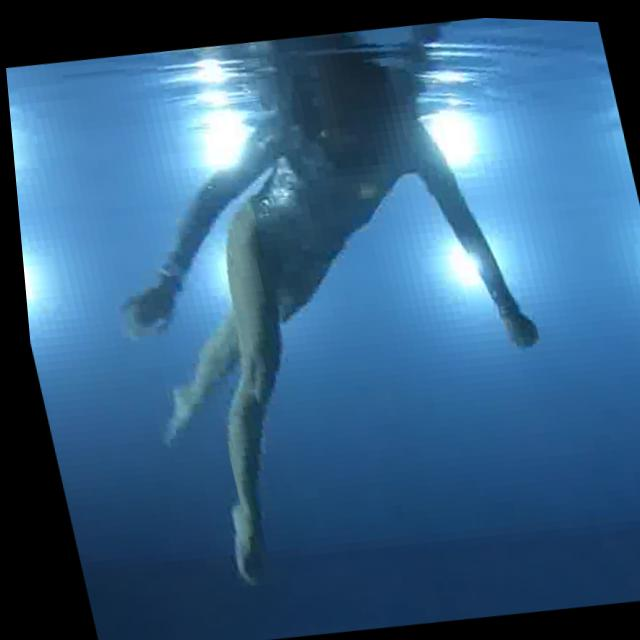human: (62, 29, 612, 603)
